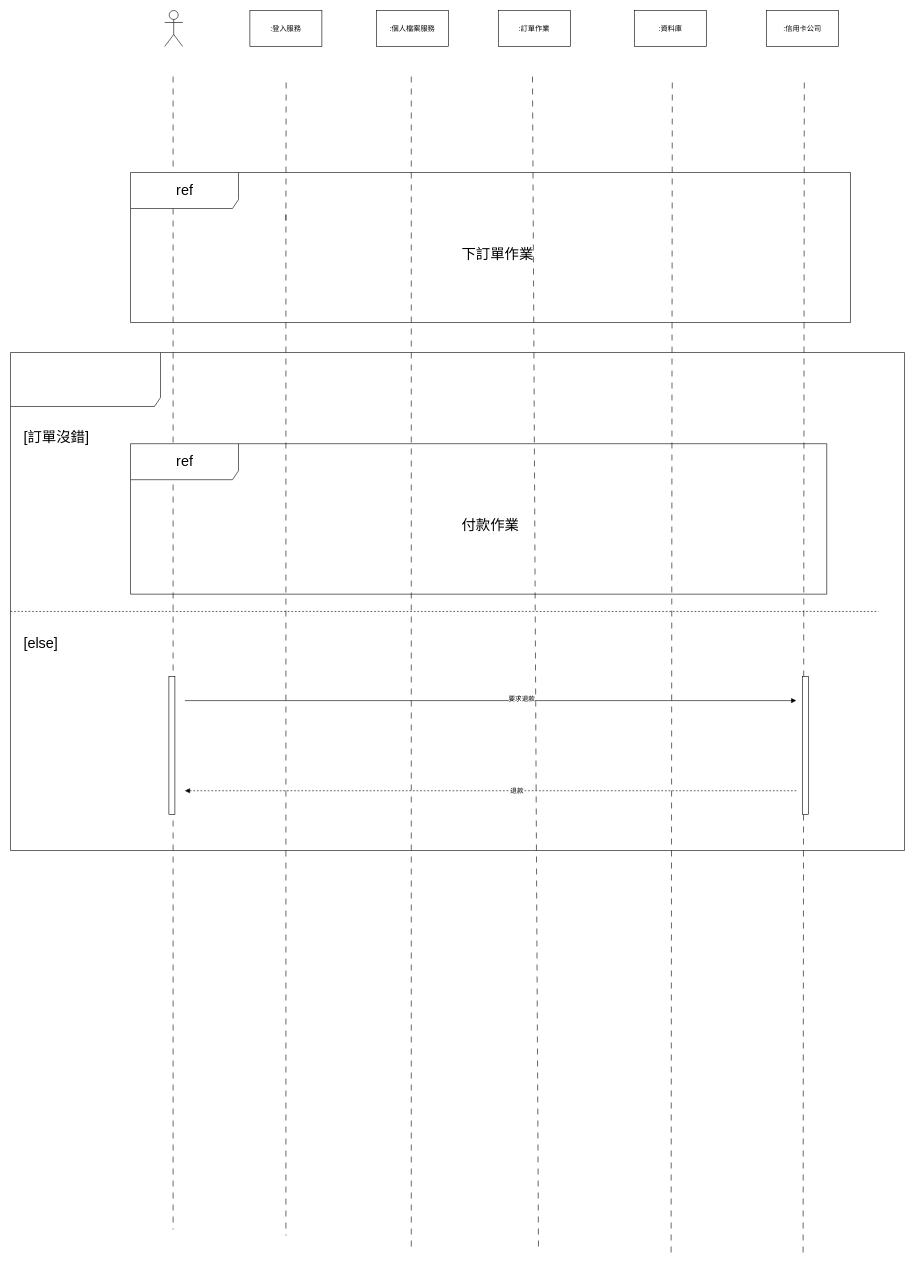
The diagram is 915 pixels wide and 1266 high, and some of its shapes have lost their labels. Here are the shapes that lost their labels. From the top down, the box of each, then its label:
(164, 10, 183, 46): :一般會員、PRO會員
(10, 352, 904, 850): alt
